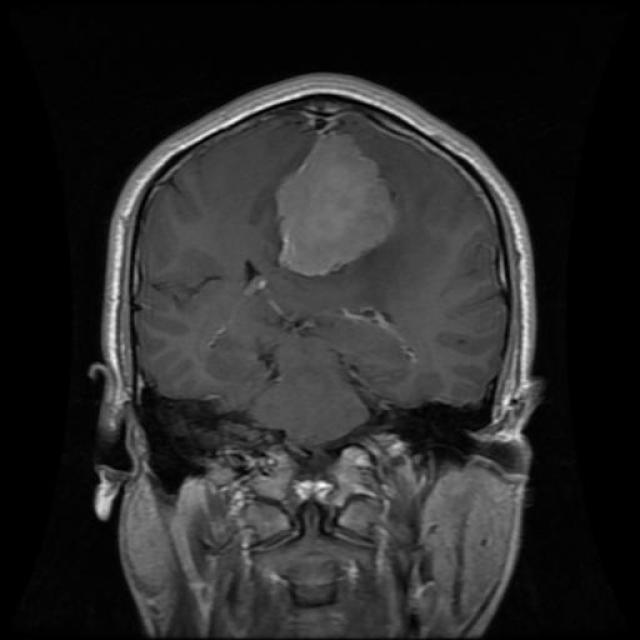meningioma: (275, 132, 398, 279)
